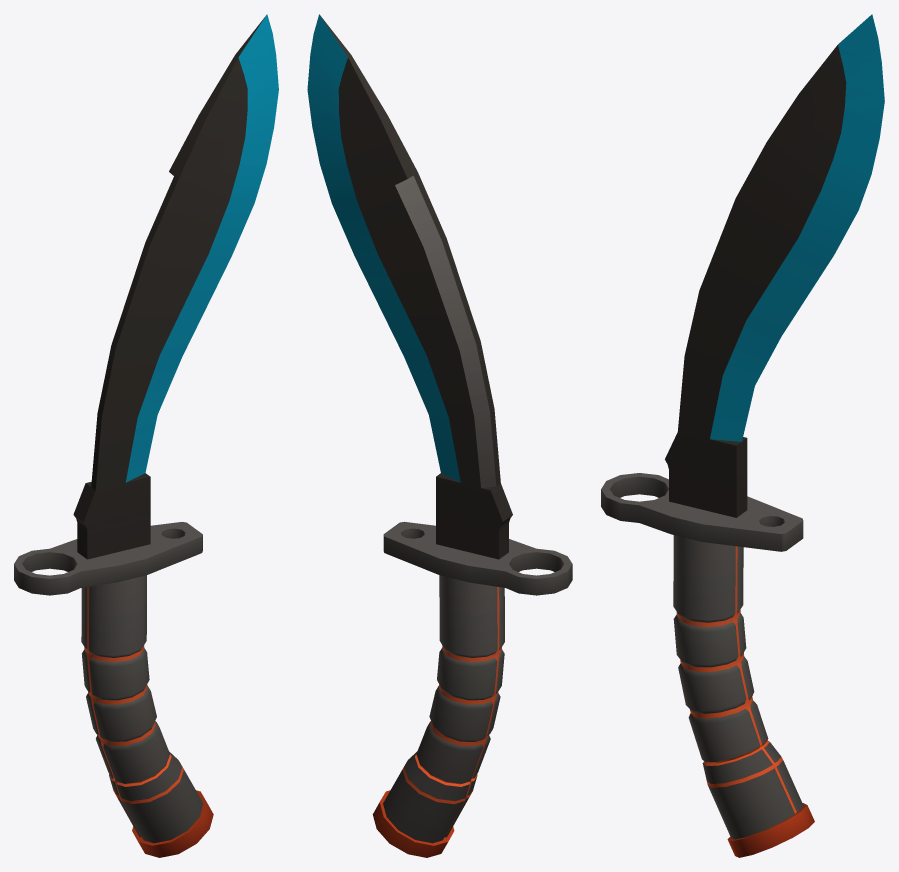
Rendered from Knife_05.fbx.
3 renders of one model, left to right at view 1: azimuth 30°, elevation 25°; view 2: azimuth 150°, elevation 25°; view 3: azimuth 330°, elevation 25°, orthographic. The views are drawn at different scales.
Visible parts, largest first — view 1: Knife_05; view 2: Knife_05; view 3: Knife_05.
Part boxes in pixels (x1,y1,x2,y2): Knife_05: (14,14,278,857); Knife_05: (307,14,572,857); Knife_05: (601,14,884,857).
Bounding box in the file's own units: 16.03 × 47.7 × 4.37.
